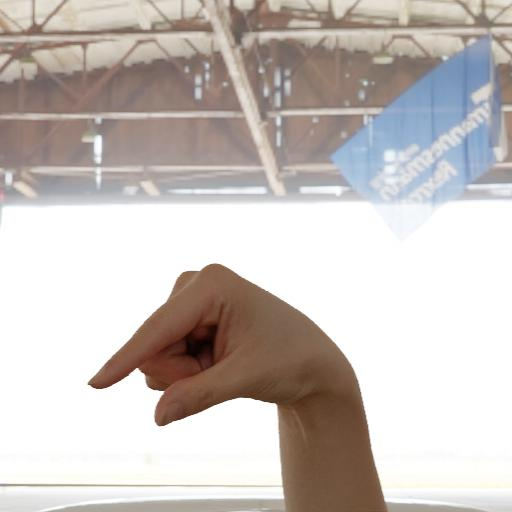Q: (80, 256, 377, 449)
